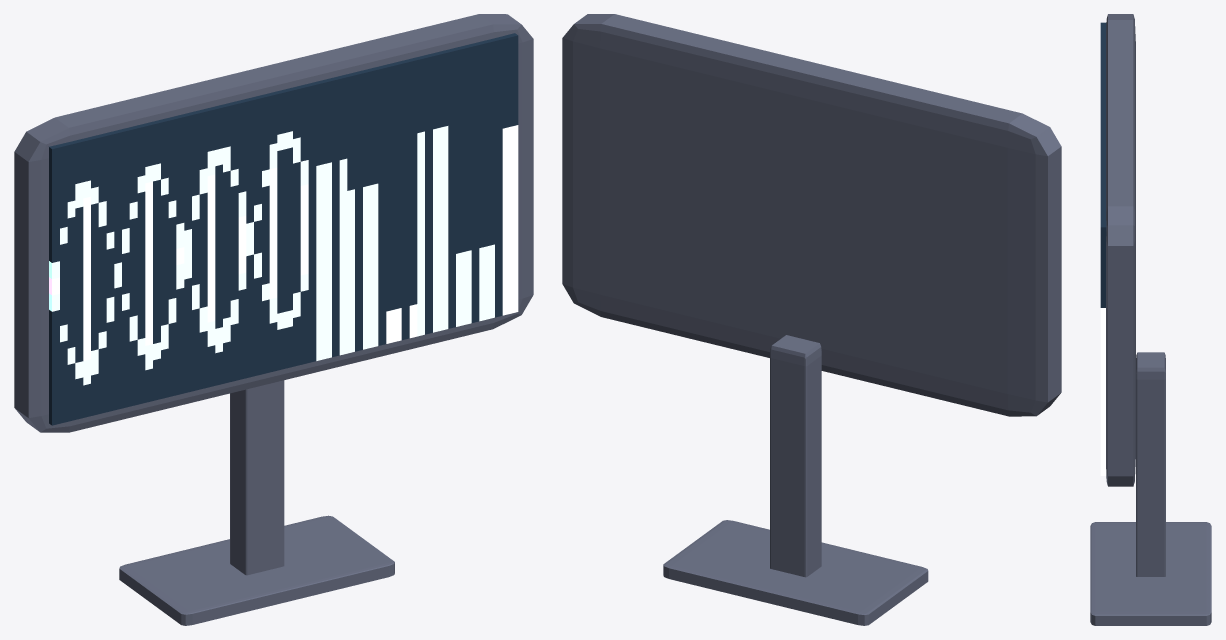
File: L11_DNA_Monitor.glb
The picture shows the model from 3 angles, left to right: view 1: azimuth 30°, elevation 25°; view 2: azimuth 150°, elevation 25°; view 3: azimuth 270°, elevation 25°; orthographic projection. The views are drawn at different scales.
Parts seen in each view (by area): view 1: L11_DNA_Monitor_Mesh; view 2: L11_DNA_Monitor_Mesh; view 3: L11_DNA_Monitor_Mesh.
Boxes of the visible parts, x1=… form: L11_DNA_Monitor_Mesh: x1=14, y1=14, x2=533, y2=625; L11_DNA_Monitor_Mesh: x1=562, y1=14, x2=1061, y2=625; L11_DNA_Monitor_Mesh: x1=1090, y1=14, x2=1211, y2=625.
Size of the model in its own units: 5.2 by 5.1 by 1.2.
